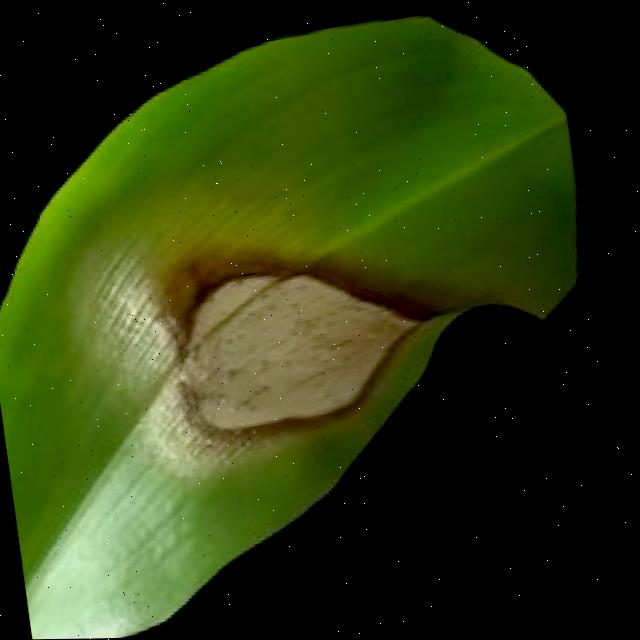sunburn: (144, 212, 438, 469)
